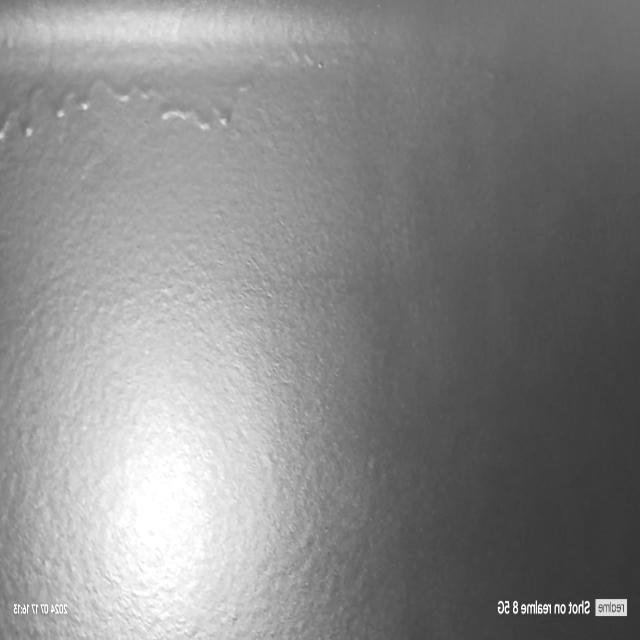paint drips: (0, 31, 339, 159)
